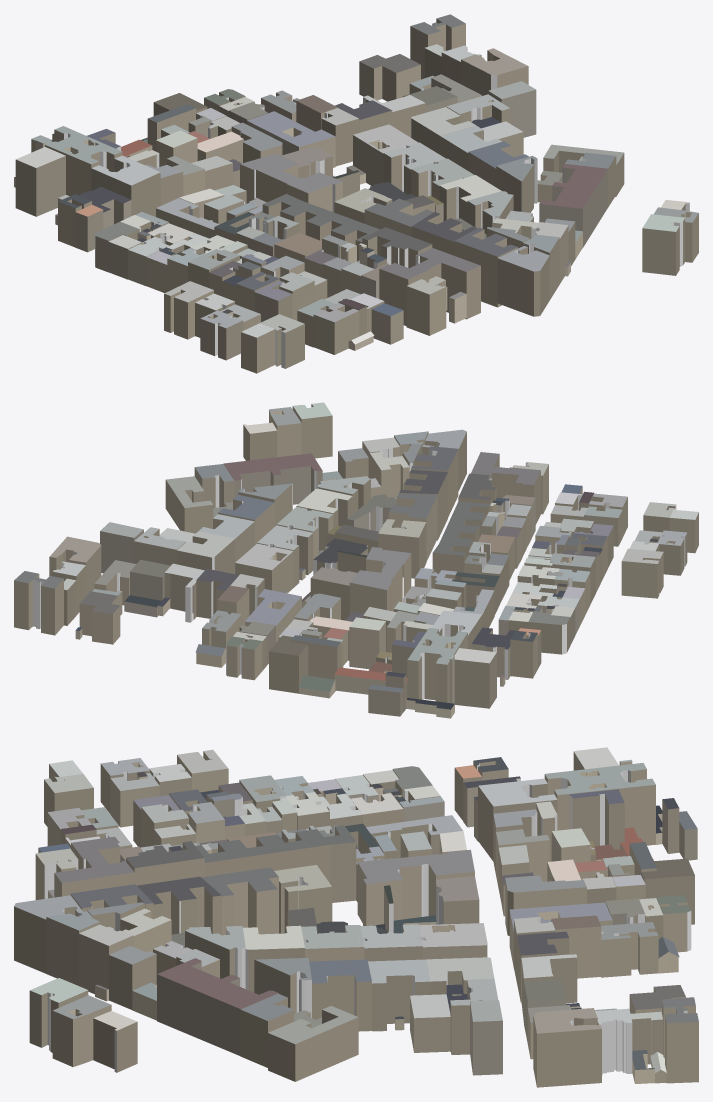
3 renders of one model, top to bottom at view 1: azimuth 30°, elevation 25°; view 2: azimuth 150°, elevation 25°; view 3: azimuth 270°, elevation 25°, orthographic. The views are drawn at different scales.
Parts seen in each view (by area): view 1: tuile; view 2: tuile; view 3: tuile.
Boxes of the visible parts, x1,y1,x2,y2 form: tuile: (14,14,698,373); tuile: (14,402,698,718); tuile: (14,747,698,1087).
Size of the model in its own units: 270 by 29.92 by 268.
